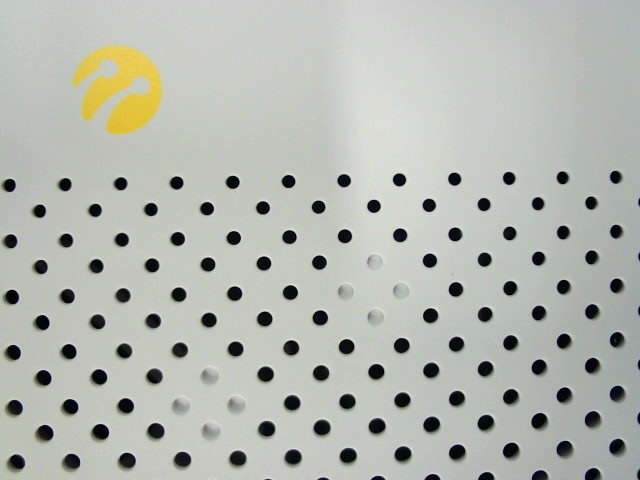AV_H3600Yellow: (54, 36, 173, 139)
